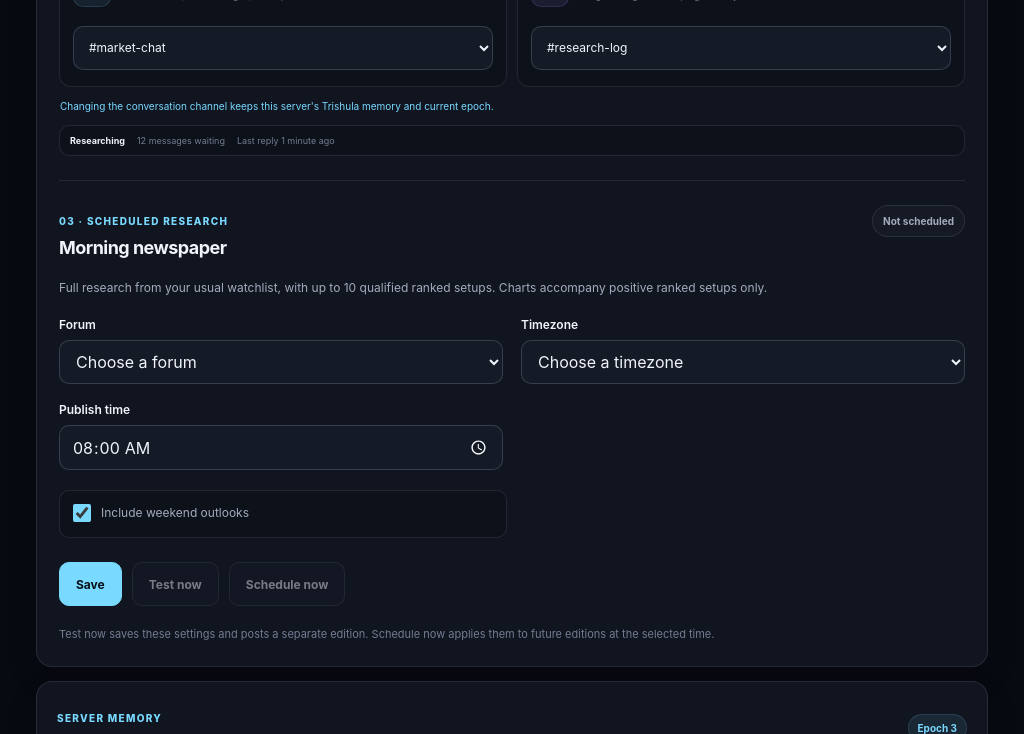
Scenario: Discord control surface › requires a valid forum, tag, timezone, and time before test or schedule
(page scrolled)
Select "#morning-paper" in the dropdown named "Morning newspaper forum" at (281, 362), box [59,340,503,384]
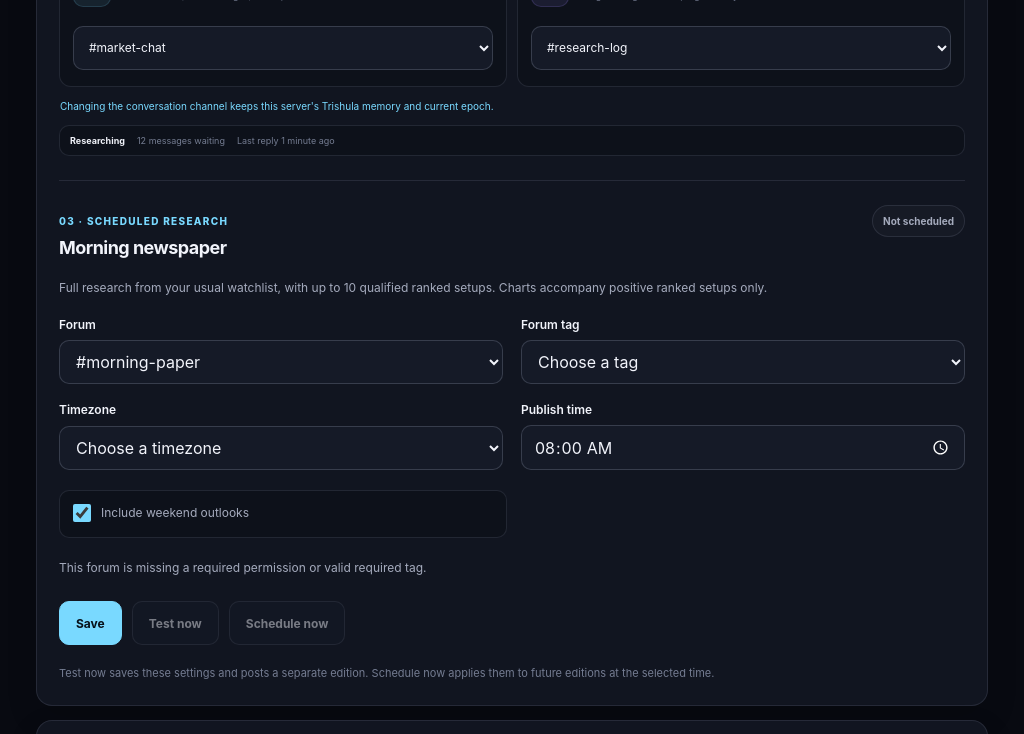
Select "America/Puerto_Rico" in the dropdown named "Schedule timezone" at (281, 448), box [59,426,503,470]
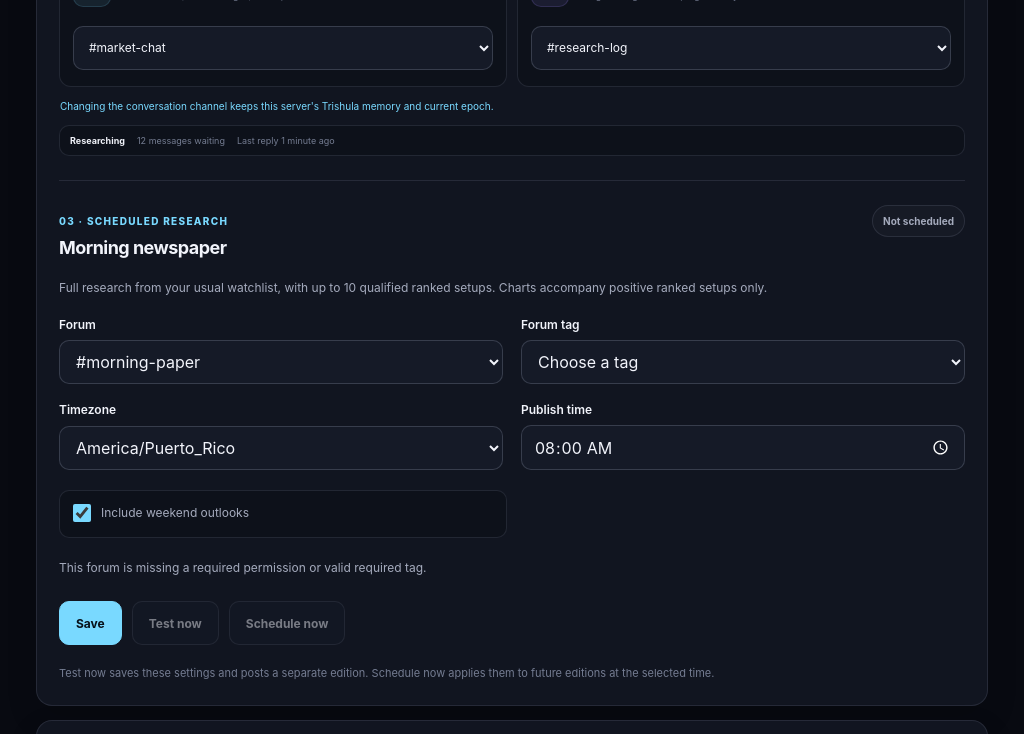
Check: the button "Schedule now" is disabled, box [229,601,346,645]
Check: the button "Test now" is disabled, box [132,601,219,645]
Select "📰 Morning" in the dropdown named "Morning newspaper tag" at (743, 362), box [521,340,965,384]
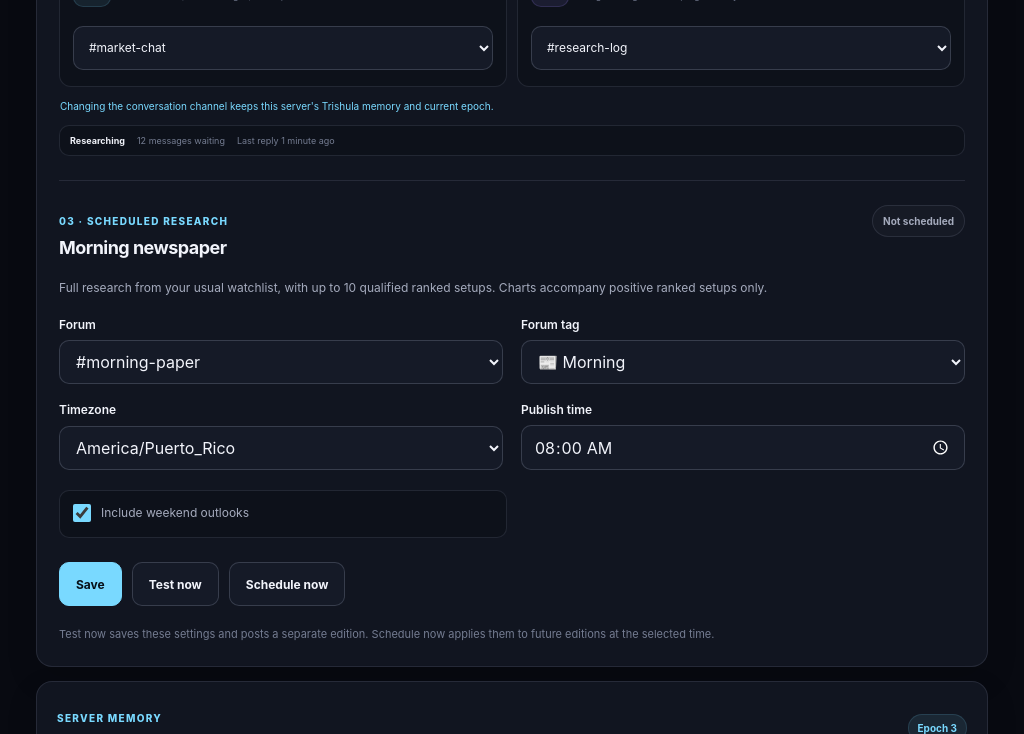
Check: the button "Schedule now" is enabled, box [229,562,346,606]
Check: the button "Test now" is enabled, box [132,562,219,606]
Clear the time field named "Local publish time" at (743, 448), box [521,425,965,470]
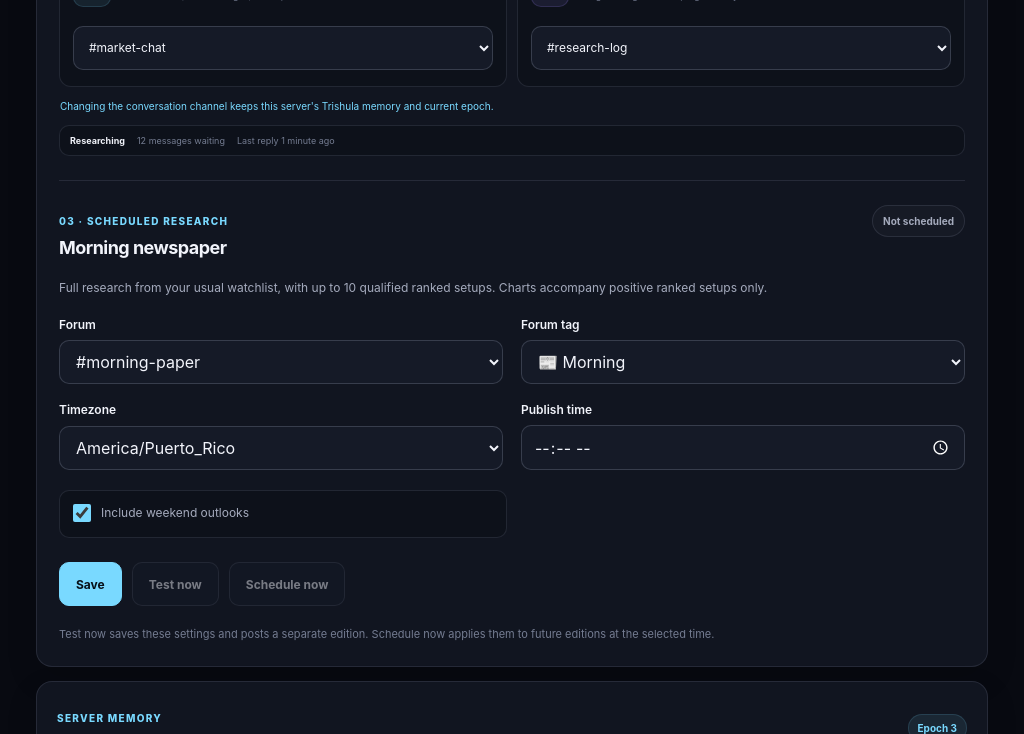
Check: the button "Schedule now" is disabled, box [229,562,346,606]
Check: the button "Test now" is disabled, box [132,562,219,606]
